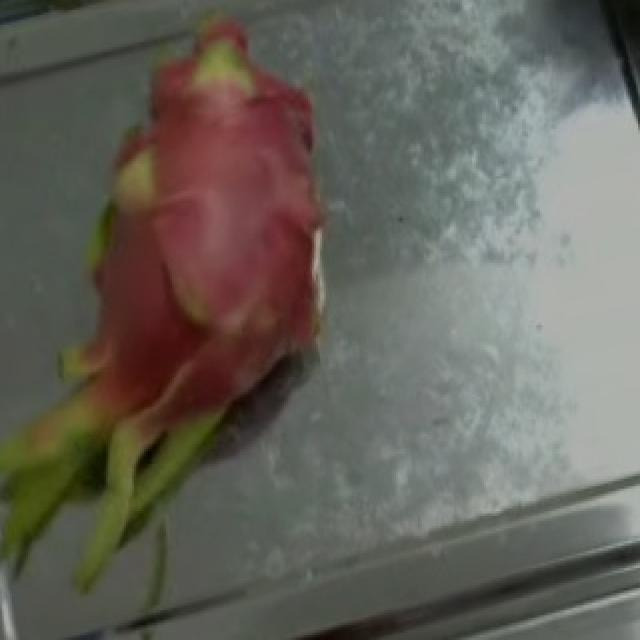fruit: (0, 206, 388, 632)
